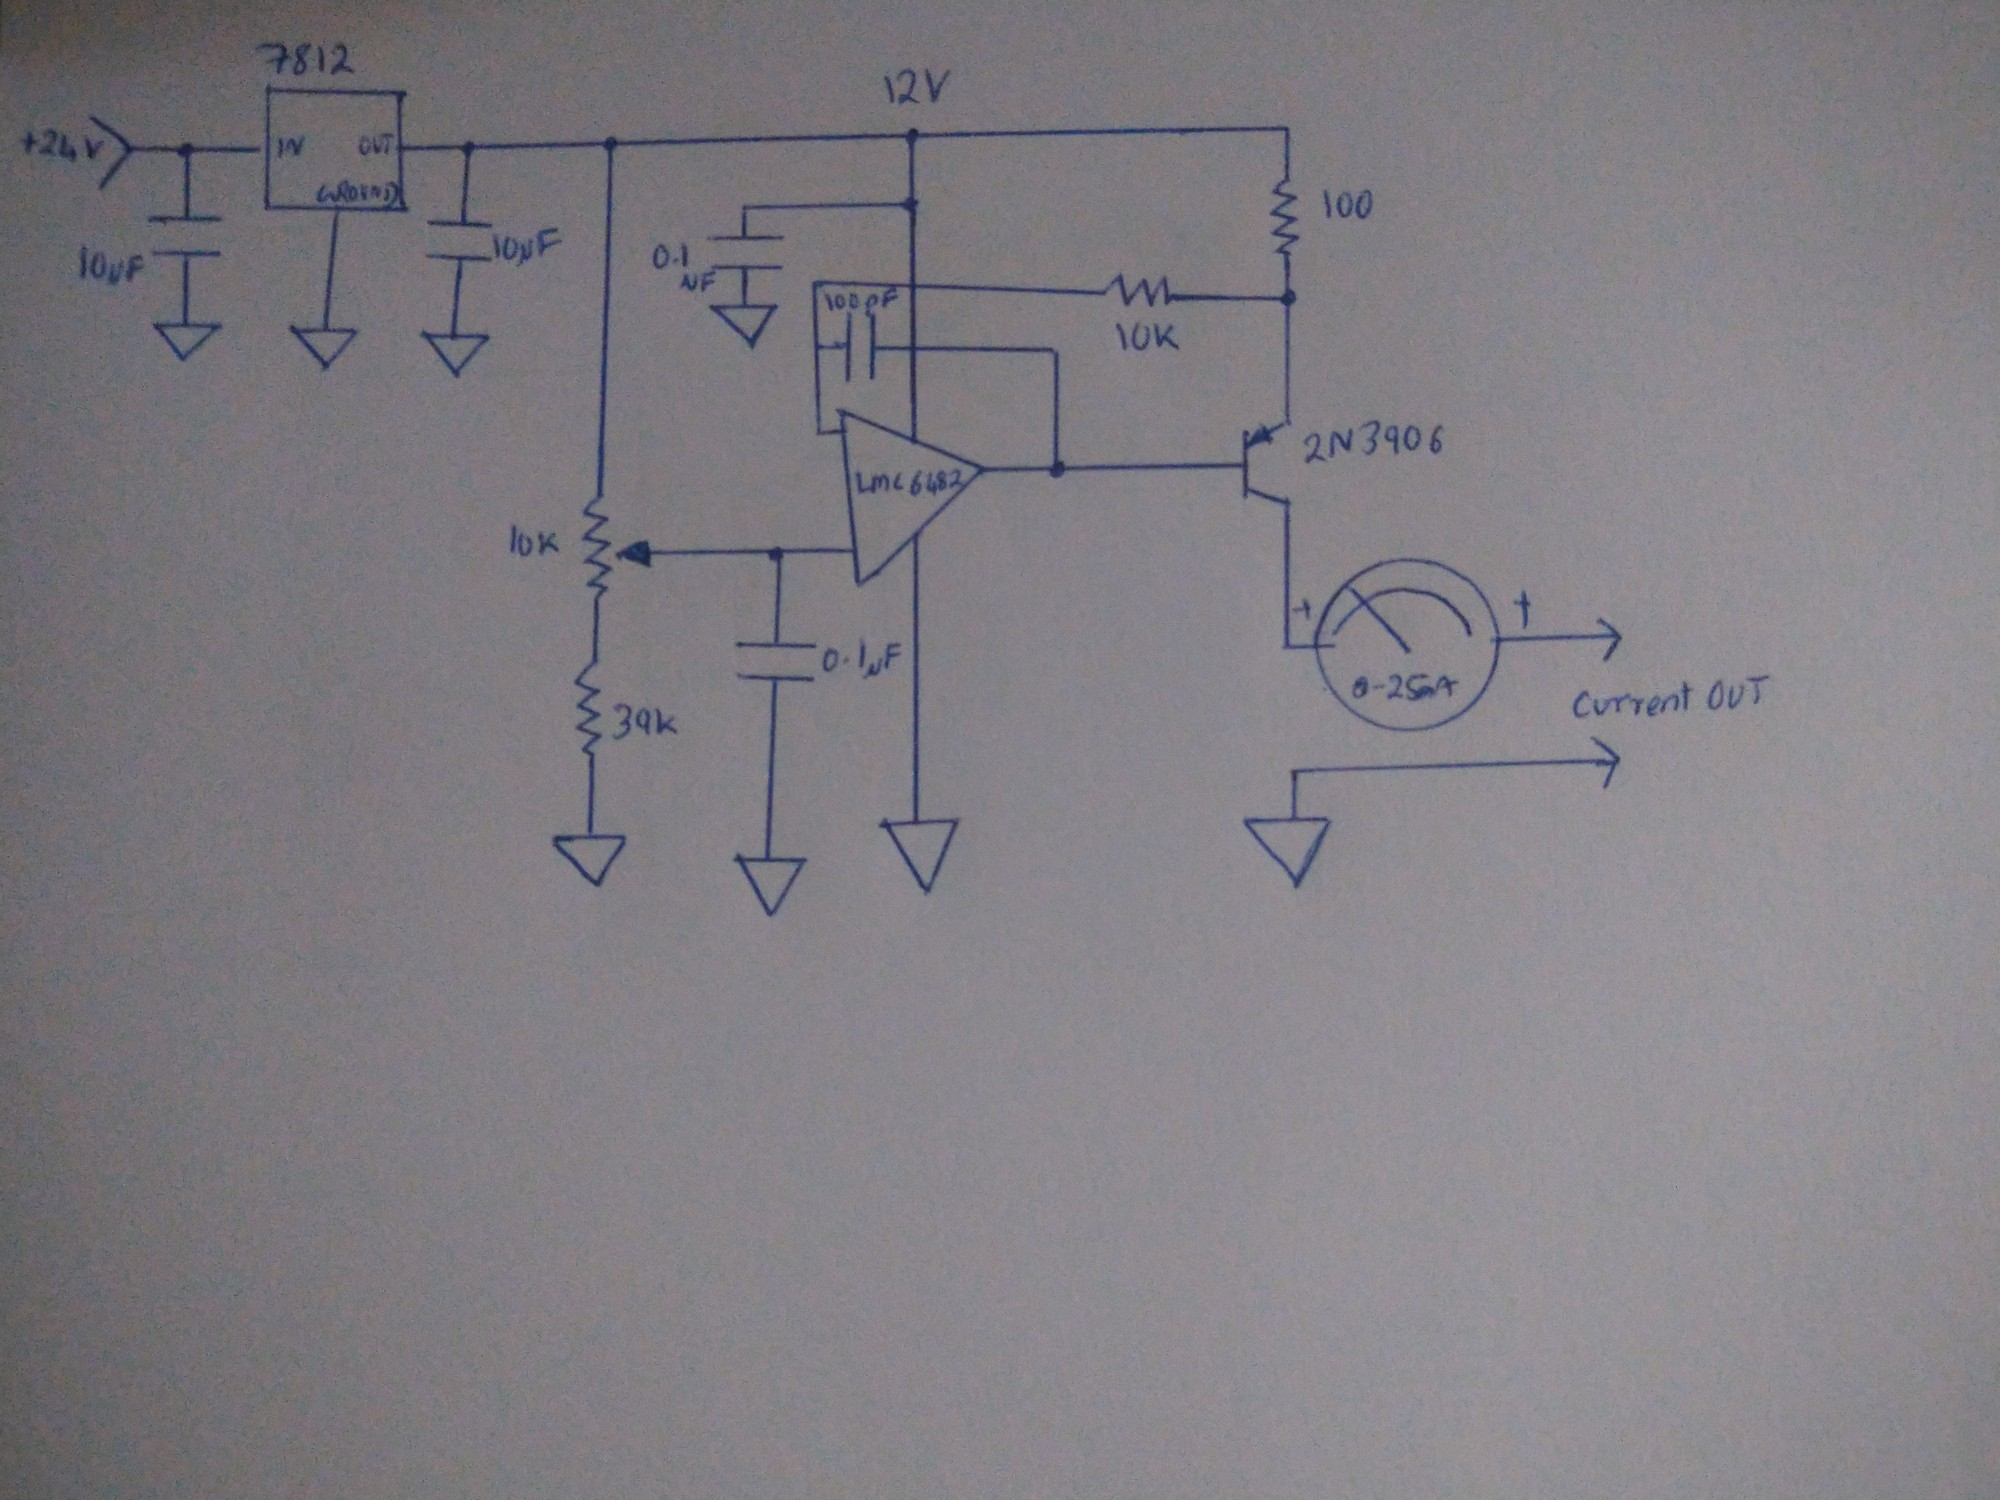capacitor.unpolarized: (732, 635, 817, 687), (143, 213, 225, 262), (702, 233, 791, 274), (424, 217, 494, 266), (839, 309, 883, 384)
crossover: (902, 336, 924, 359), (902, 277, 924, 296)
gnd: (877, 815, 961, 898), (1241, 816, 1332, 890), (731, 852, 806, 919), (550, 832, 628, 889), (706, 301, 781, 350), (285, 321, 359, 370), (416, 329, 490, 377), (153, 317, 227, 362)
junction: (764, 540, 795, 570), (896, 187, 926, 217), (1044, 454, 1072, 484), (598, 131, 625, 161), (898, 124, 928, 151), (172, 137, 202, 162), (454, 136, 483, 161), (1046, 336, 1071, 361), (1277, 285, 1301, 312), (1276, 117, 1298, 139), (1285, 763, 1309, 783), (811, 422, 831, 443), (734, 199, 756, 217), (806, 340, 828, 359), (1277, 640, 1298, 659), (806, 276, 827, 295)
operational_amplifier: (835, 407, 987, 589)
probe.current: (1312, 558, 1502, 734)
resistor: (572, 659, 606, 758), (1102, 273, 1178, 309), (1269, 176, 1301, 258)
resistor.adjustable: (580, 492, 655, 602)
terminal: (88, 113, 132, 191), (1584, 734, 1624, 791), (1594, 613, 1630, 663)
text: (1569, 674, 1772, 722), (1301, 418, 1446, 470), (257, 36, 361, 79), (1346, 670, 1463, 704), (643, 239, 715, 295), (820, 637, 904, 684), (72, 244, 150, 291), (16, 124, 104, 165), (876, 63, 953, 109), (490, 225, 565, 271), (850, 466, 969, 495), (609, 700, 682, 744), (1112, 318, 1183, 358), (312, 176, 402, 206), (506, 522, 564, 562), (1318, 186, 1376, 224), (820, 287, 902, 312), (356, 131, 395, 158), (272, 132, 309, 159)
transistor: (1239, 418, 1298, 511)
voltage.dc_regulator: (261, 84, 409, 217)
